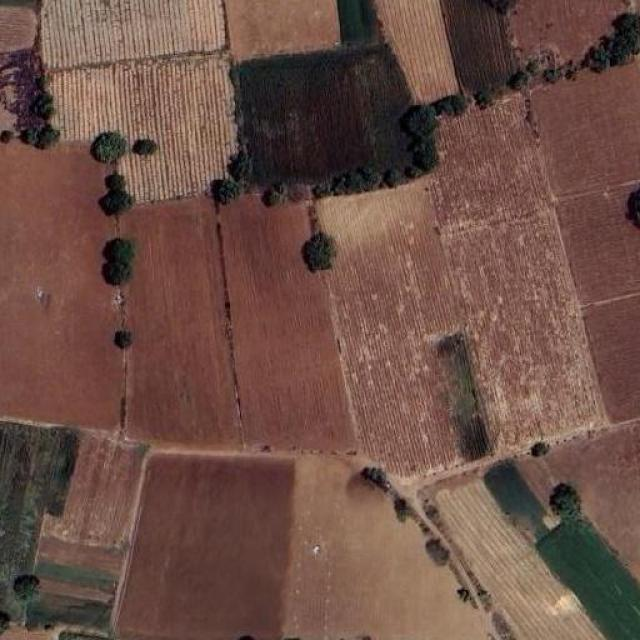land-Sx1C: (319, 179, 464, 474), (284, 458, 489, 640), (451, 211, 605, 451), (0, 141, 124, 429), (219, 195, 355, 451), (119, 455, 294, 640), (122, 198, 239, 445), (51, 52, 236, 202), (434, 479, 604, 639), (234, 45, 411, 184), (516, 421, 640, 581), (435, 96, 548, 227), (532, 61, 640, 195), (43, 0, 222, 69), (538, 521, 640, 640), (41, 435, 145, 549), (559, 192, 640, 303), (374, 0, 460, 103), (31, 536, 125, 627), (509, 0, 640, 62), (435, 331, 490, 461), (226, 0, 340, 62), (584, 296, 640, 421), (441, 0, 515, 93), (484, 461, 549, 541), (338, 0, 381, 44), (0, 7, 38, 52)
